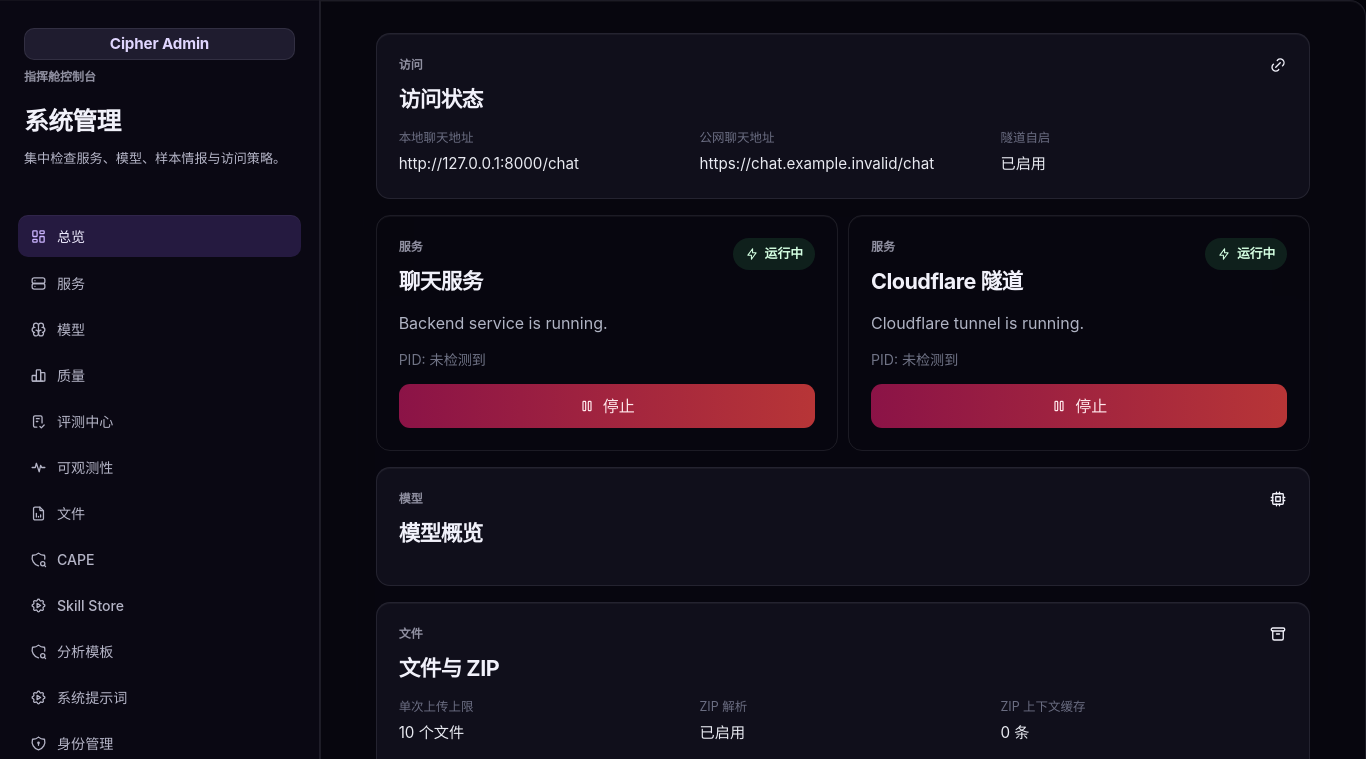
Scenario: AdminPage › sends a backend stop action and refreshes status
The width and height of the screenshot is (1366, 759).
Expected: the text "Backend service is running." is shown, x1=399 y1=313 x2=608 y2=333
Click the button "停止" below "Backend service is running." at (607, 406), box x1=399 y1=384 x2=815 y2=428
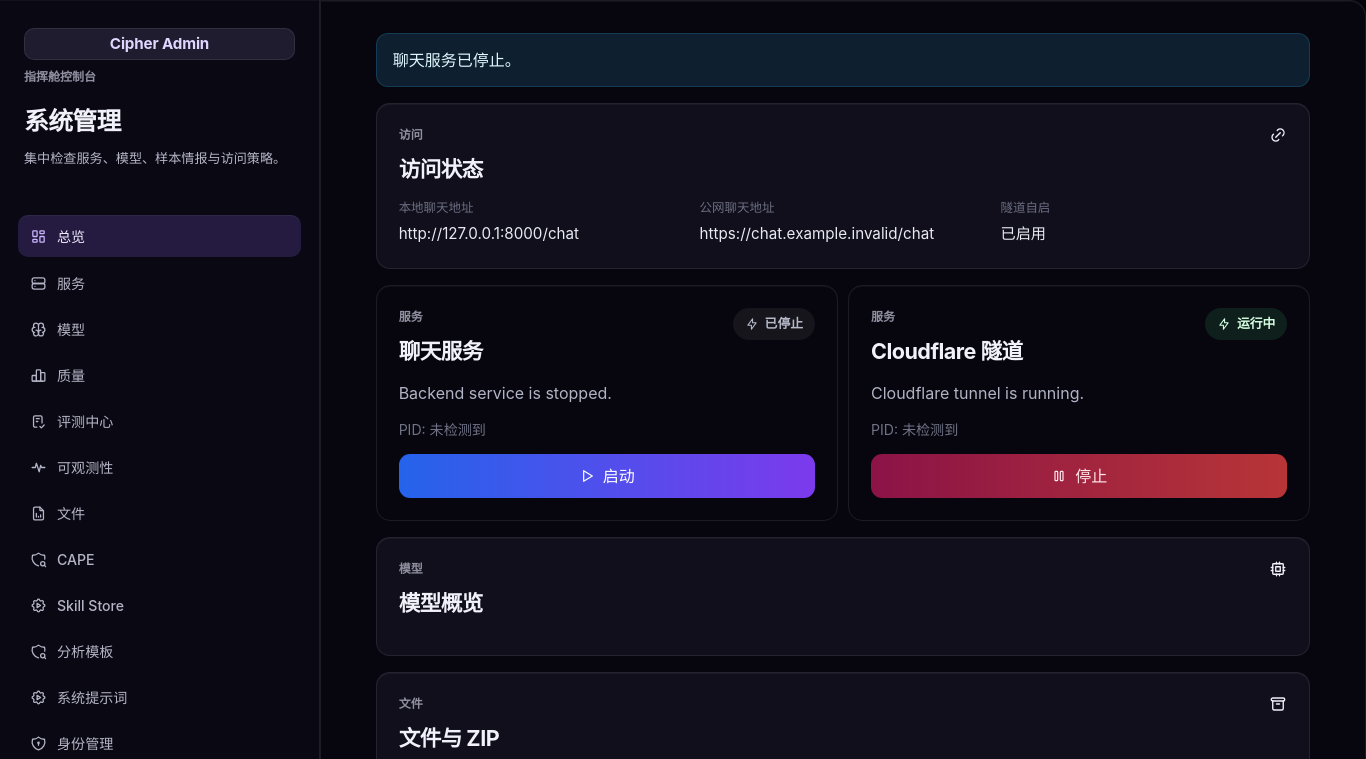
Now the text "Backend service is stopped." is shown, box x1=399 y1=383 x2=612 y2=403
